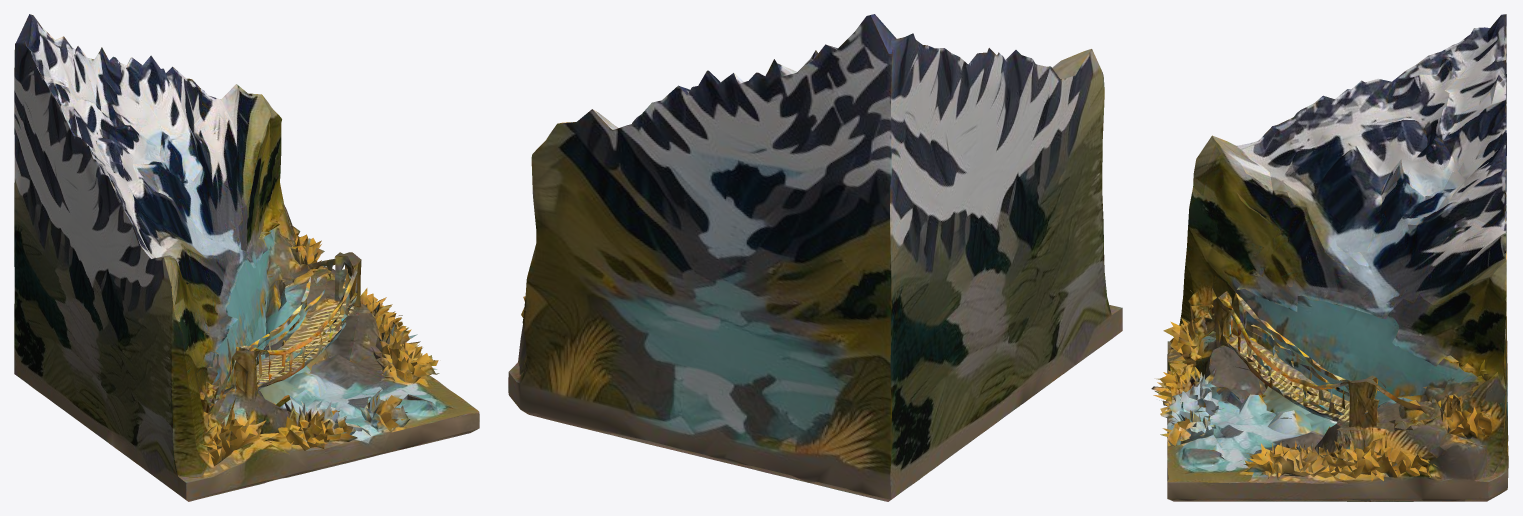
Rendered from aoraki-mount-cook.glb.
3 renders of one model, left to right at view 1: azimuth 30°, elevation 25°; view 2: azimuth 150°, elevation 25°; view 3: azimuth 270°, elevation 25°, orthographic. The views are drawn at different scales.
Parts seen in each view (by area): view 1: logan-textured.obj; view 2: logan-textured.obj; view 3: logan-textured.obj.
Boxes of the visible parts, x1,y1,x2,y2 form: logan-textured.obj: (14, 14, 479, 501); logan-textured.obj: (508, 14, 1122, 501); logan-textured.obj: (1151, 14, 1508, 501).
Size of the model in its own units: 0.9112 by 1 by 0.9077.
1 material, 1 textured.
